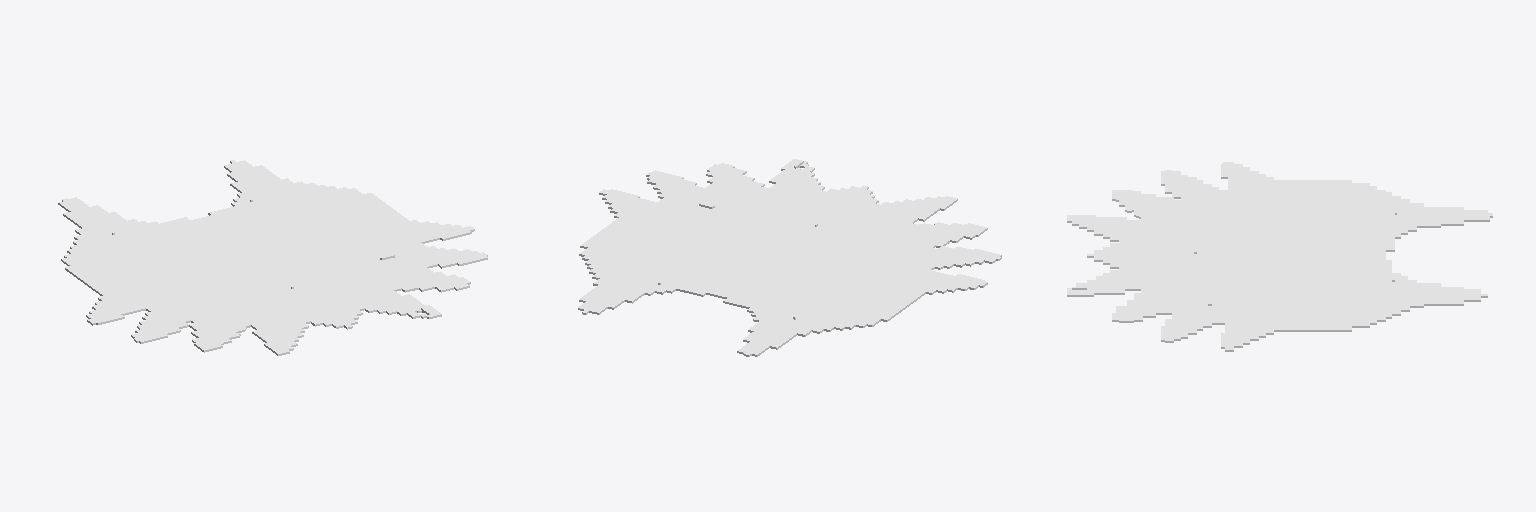
Rendered from boss_mask.obj.
The picture shows the model from 3 angles: view 1: azimuth 30°, elevation 25°; view 2: azimuth 150°, elevation 25°; view 3: azimuth 270°, elevation 25°; orthographic projection.
Visible parts, largest first — view 1: object 1; view 2: object 1; view 3: object 1.
Part boxes in pixels (x1,y1,x2,y2): object 1: (58,160,487,355); object 1: (578,159,1001,356); object 1: (1067,162,1492,351).
Bounding box in the file's own units: 19.9 × 0.2 × 19.1.